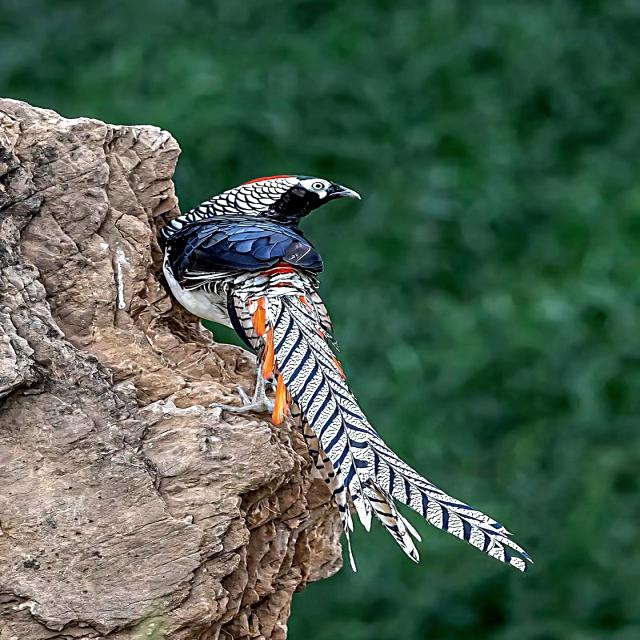Chrysolophus amherstiae: (267, 294, 530, 569)
